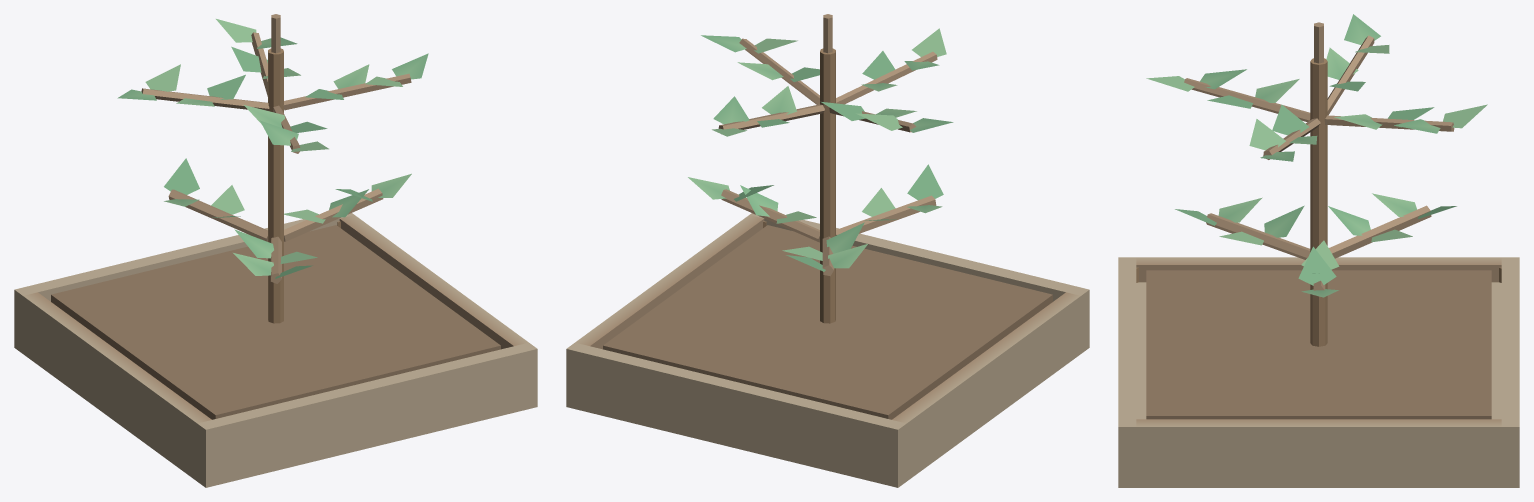
The model's file is cafe_crecimiento_near.glb.
3 renders of one model, left to right at view 1: azimuth 30°, elevation 25°; view 2: azimuth 150°, elevation 25°; view 3: azimuth 270°, elevation 25°, orthographic. The views are drawn at different scales.
Parts seen in each view (by area): view 1: model; view 2: model; view 3: model.
Part boxes in pixels (bbox=[...]): model: bbox=[14, 14, 537, 487]; model: bbox=[566, 14, 1089, 487]; model: bbox=[1118, 14, 1519, 487].
Bounding box in the file's own units: 1 × 1.04 × 1.
